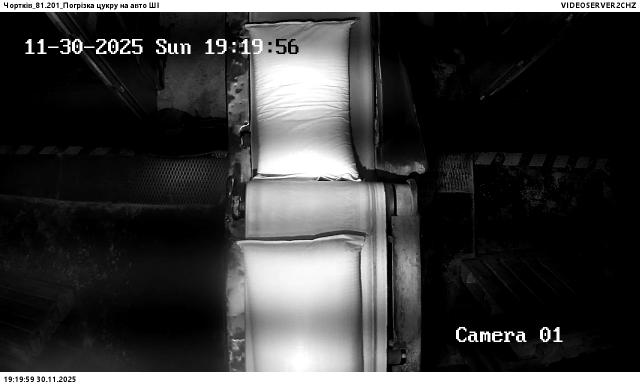bag: (246, 19, 361, 181), (239, 236, 368, 372)
